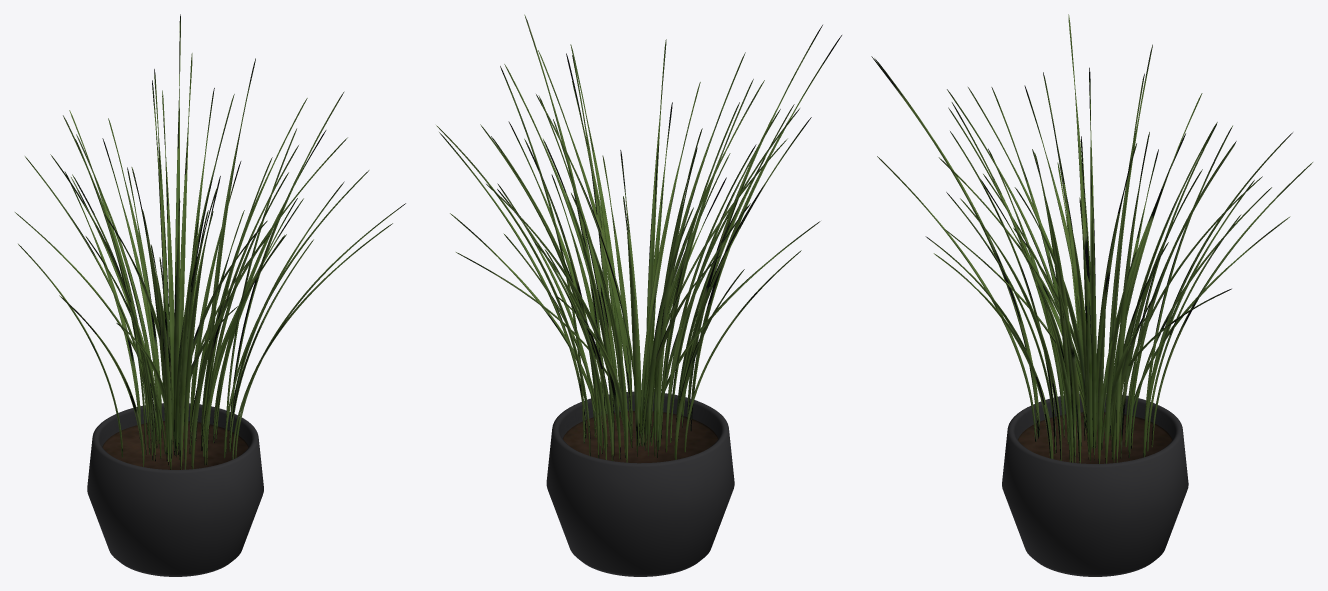
File: ornamental-grass.glb
3 views of the same model, side by side, from view 1: azimuth 30°, elevation 25°; view 2: azimuth 150°, elevation 25°; view 3: azimuth 270°, elevation 25° (orthographic). The views are drawn at different scales.
Parts seen in each view (by area): view 1: leaf_grass, ceramic_primary, soil; view 2: leaf_grass, ceramic_primary, soil; view 3: leaf_grass, ceramic_primary, soil.
Part boxes in pixels (x1=…): leaf_grass: x1=15, y1=14, x2=405, y2=469; ceramic_primary: x1=87, y1=403, x2=263, y2=576; soil: x1=102, y1=421, x2=248, y2=469; leaf_grass: x1=436, y1=14, x2=841, y2=462; ceramic_primary: x1=546, y1=391, x2=734, y2=576; soil: x1=563, y1=411, x2=718, y2=463; leaf_grass: x1=871, y1=14, x2=1312, y2=463; ceramic_primary: x1=1002, y1=393, x2=1188, y2=576; soil: x1=1018, y1=412, x2=1172, y2=463.
Bounding box in the file's own units: 0.4027 × 0.5586 × 0.4741.
3 materials, 3 textured.
